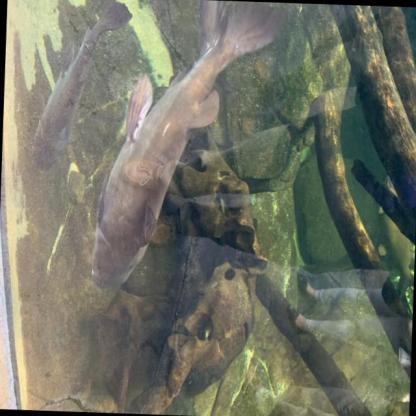fish: (87, 0, 289, 300), (22, 0, 134, 180)
